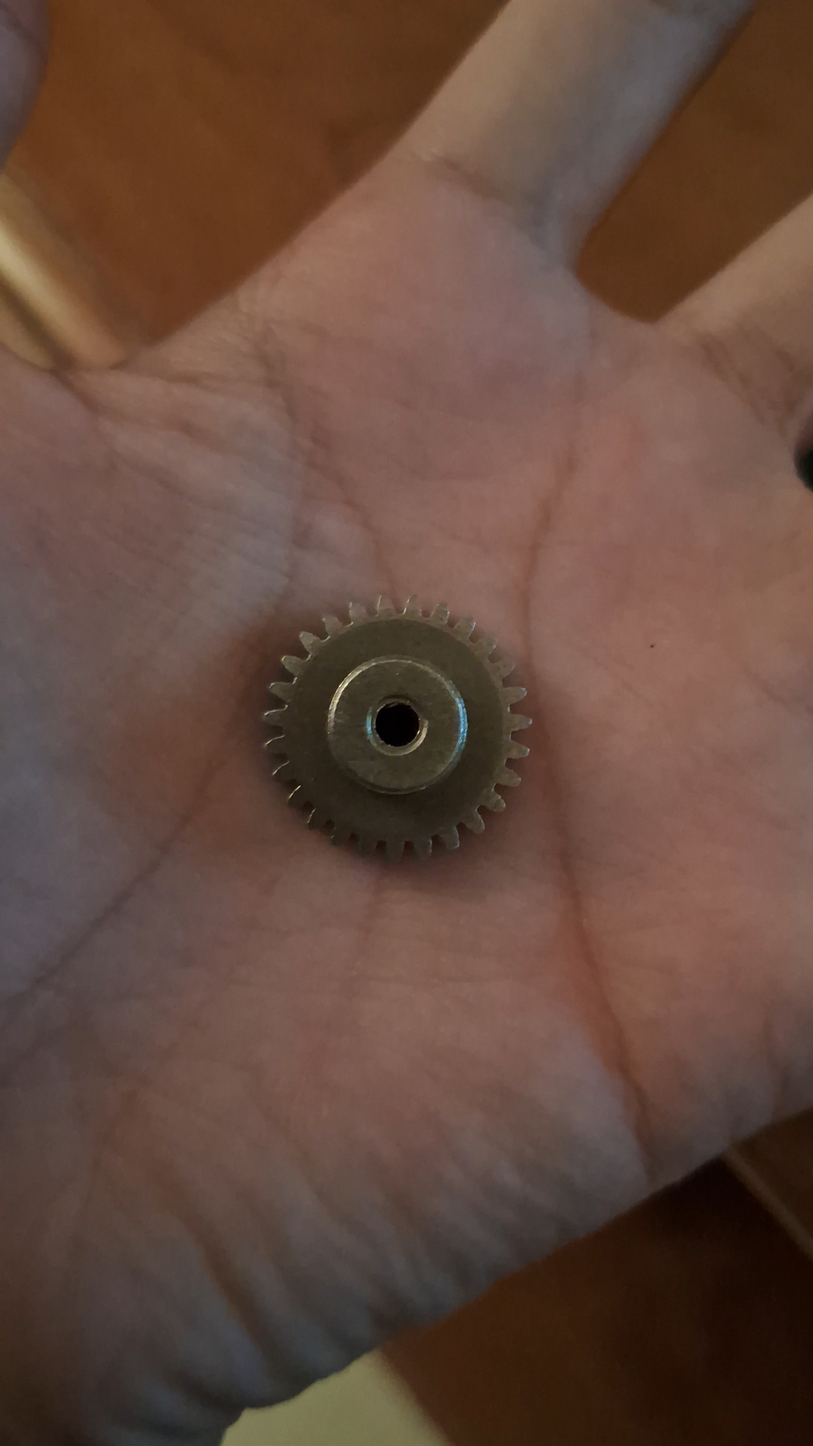spur gear: (321, 633, 538, 840)
